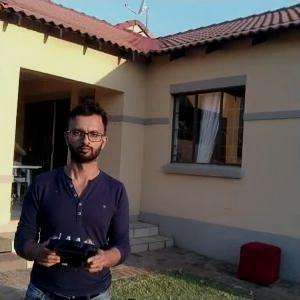follow: (9, 94, 132, 298)
